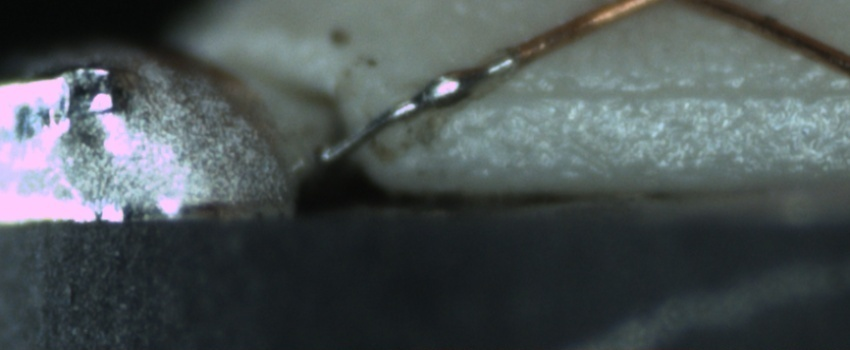DL: (475, 64, 849, 119)
TB: (413, 64, 481, 111)
TS: (320, 52, 519, 163)
TTCW: (311, 29, 555, 168)
